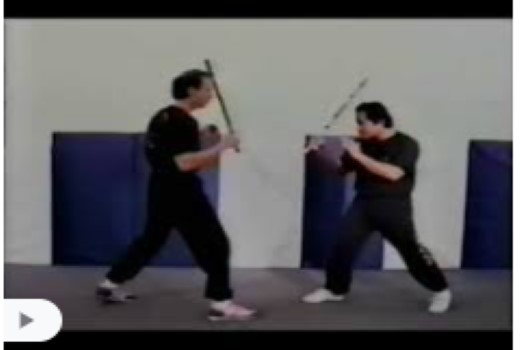baston_e: (317, 83, 364, 142), (205, 64, 238, 129)
baston_v: (359, 73, 371, 86), (200, 54, 211, 67), (232, 145, 245, 154)
